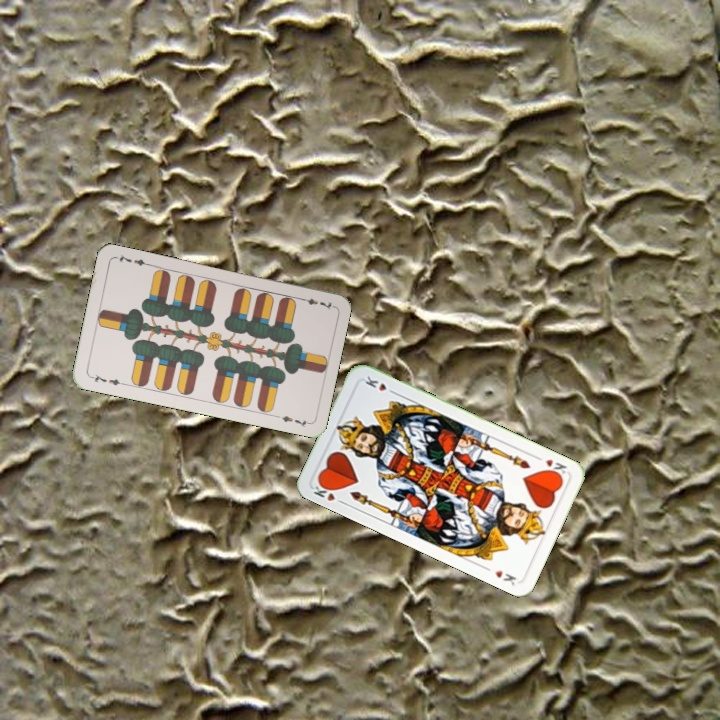E7: (295, 293, 336, 312), (86, 370, 126, 388)
HK: (309, 478, 348, 507), (532, 452, 569, 479)
